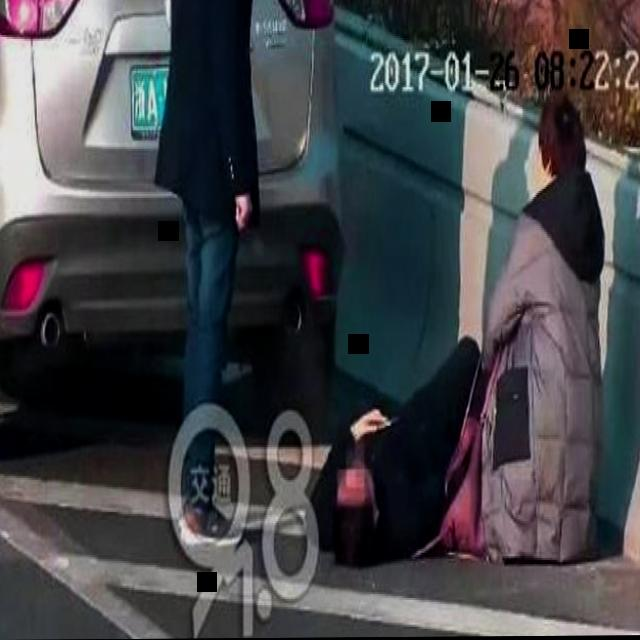Fall-Detected: (311, 307, 488, 570)
